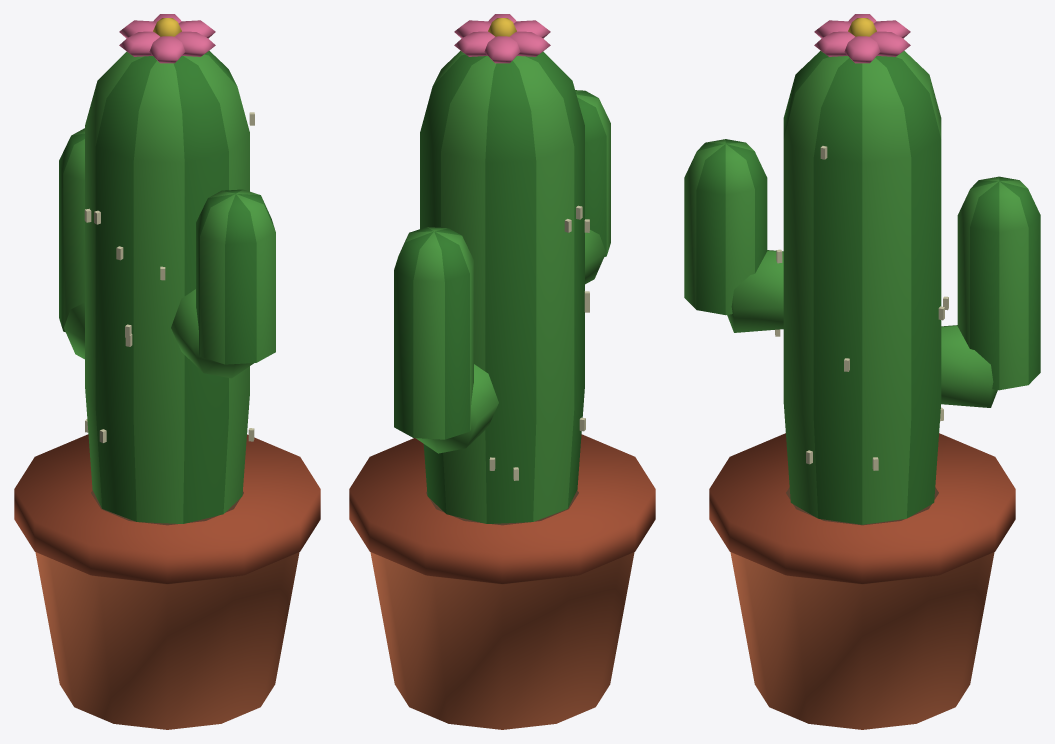
Rendered from greenhouse-prop2.glb.
3 views of the same model, side by side, from view 1: azimuth 30°, elevation 25°; view 2: azimuth 150°, elevation 25°; view 3: azimuth 270°, elevation 25° (orthographic).
Parts seen in each view (by area): view 1: greenhouse-prop2; view 2: greenhouse-prop2; view 3: greenhouse-prop2.
Part boxes in pixels (left/top/right/bottom): greenhouse-prop2: left=14, top=14, right=320, bottom=729; greenhouse-prop2: left=349, top=14, right=655, bottom=729; greenhouse-prop2: left=684, top=14, right=1040, bottom=729.
Bounding box in the file's own units: 0.74 × 1.77 × 0.86.
